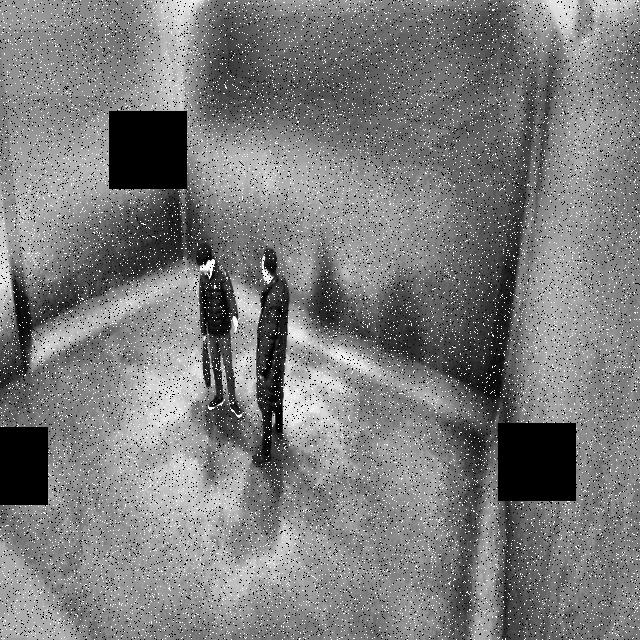assult: (195, 226, 288, 470)
